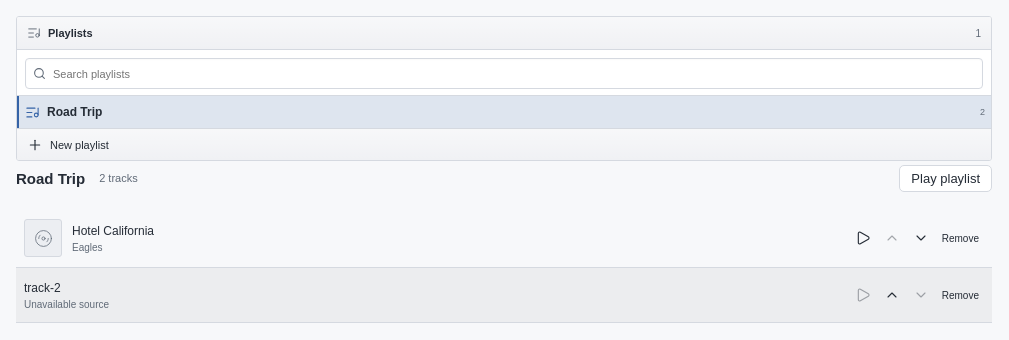
PlaylistPanel › removes a playlist entry and updates the visible count
Expected: the text "Hotel California" is shown, [72, 224, 154, 238]
Click the button with aria-label "Remove Hotel California from Road Trip".
click(960, 238)  # box [937, 225, 984, 251]
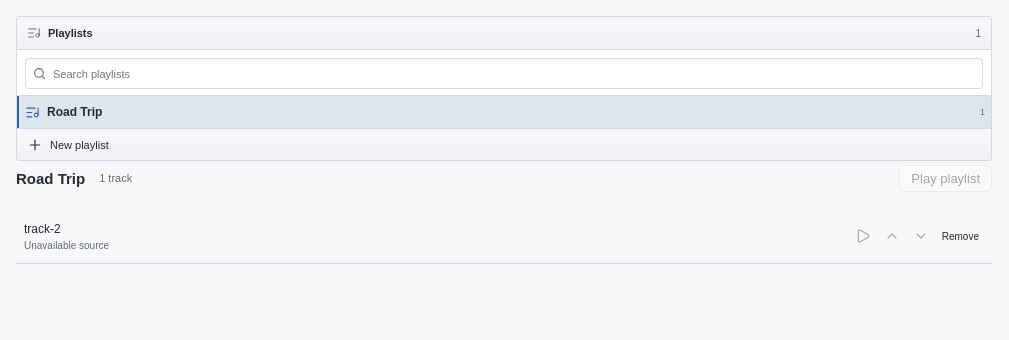
Expected: the text "Hotel California" is gone
Expected: the text "1 track" is shown, [99, 172, 132, 184]
